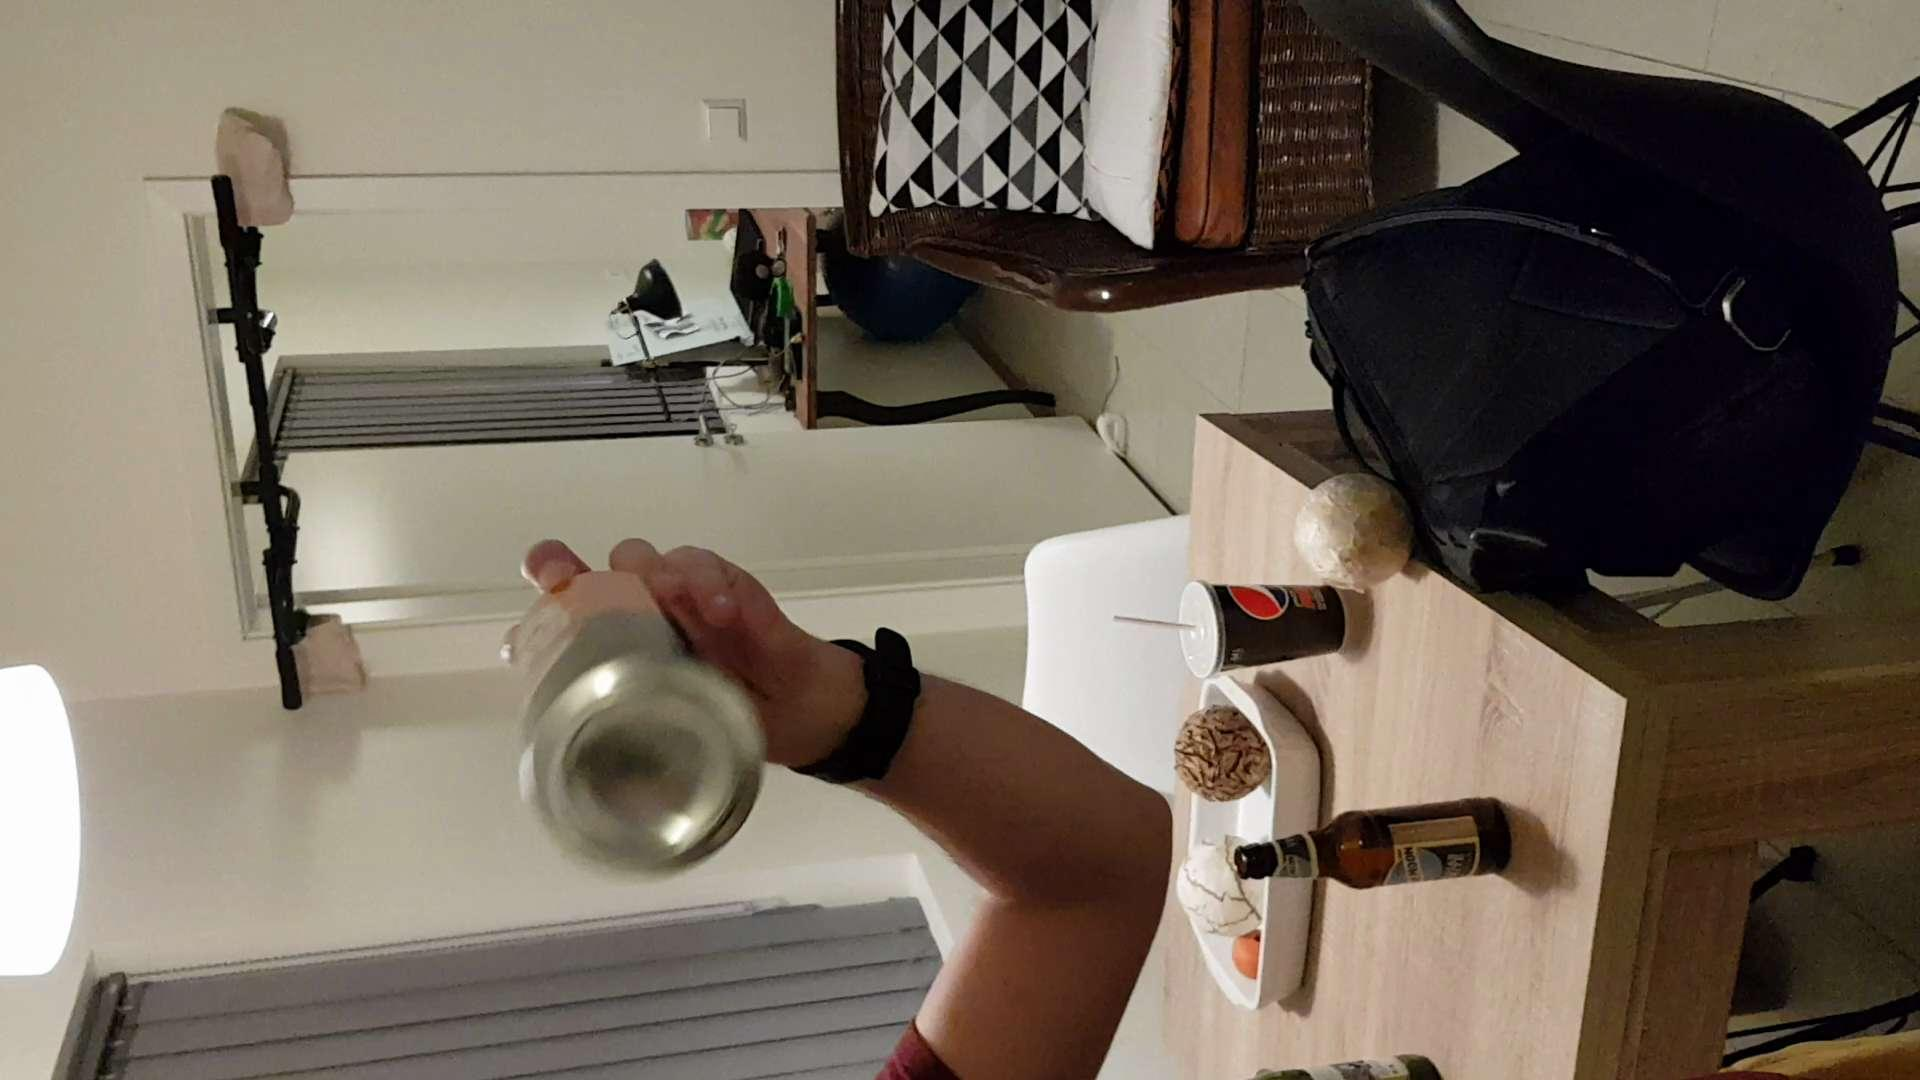Can: (510, 559, 760, 880)
